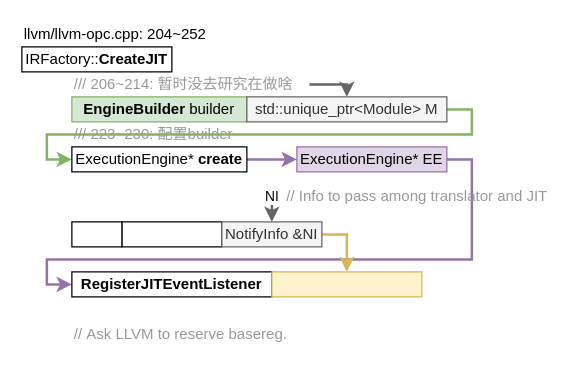
This 581x368 diagram has some shape labels left out. Each missing label, with the centre of its shape:
"EventListner" goes at (171,234).
"JITEventListener *" goes at (346,284).
"new" goes at (96,234).
